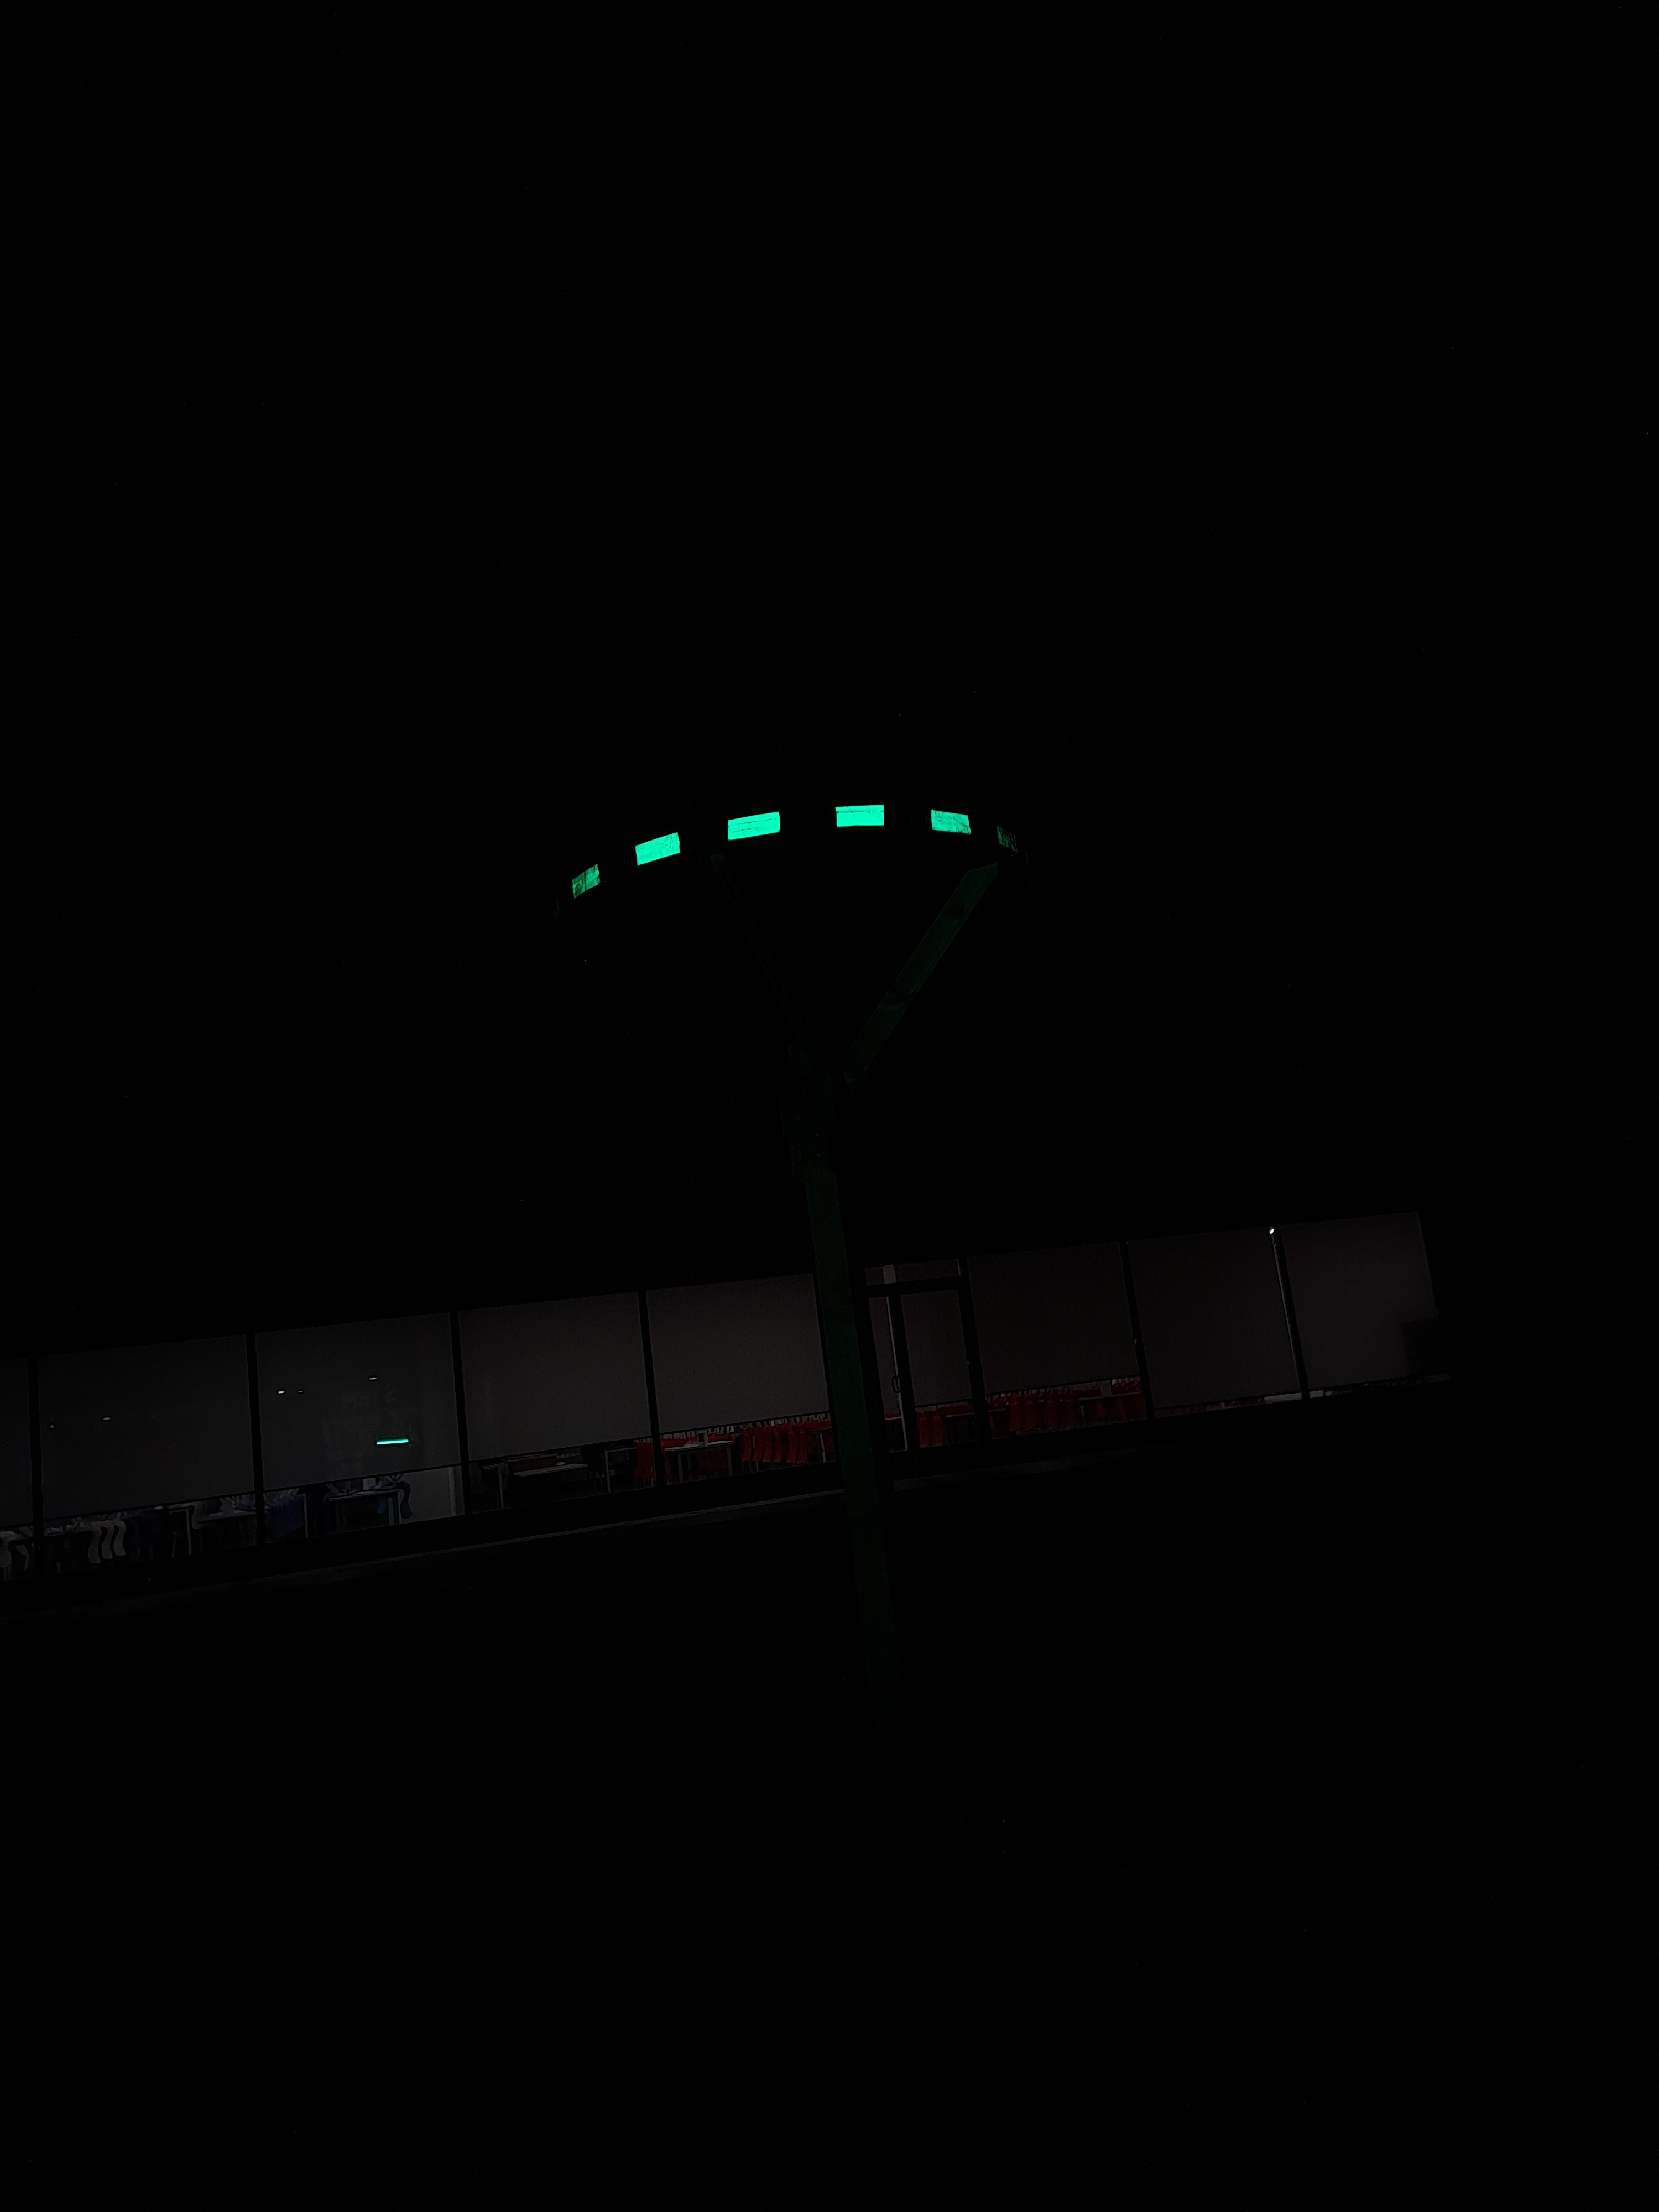hoop: (565, 799, 1030, 906)
